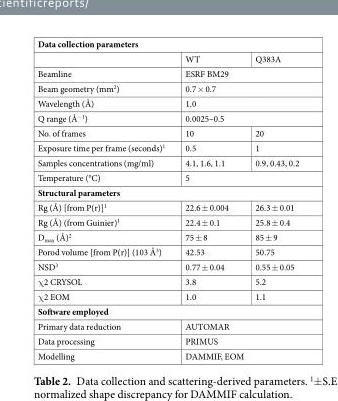table: (36, 37, 298, 361)
table column: (36, 37, 174, 361), (174, 37, 241, 361), (241, 37, 298, 361)
table projected row header: (36, 184, 298, 199), (36, 303, 298, 318), (36, 37, 298, 50)
table row: (36, 50, 298, 65), (36, 65, 298, 80), (36, 80, 298, 95), (36, 95, 298, 110), (36, 110, 298, 125), (36, 125, 298, 140), (36, 154, 298, 169), (36, 169, 298, 184), (36, 184, 298, 199), (36, 199, 298, 214), (36, 214, 298, 229), (36, 229, 298, 244), (36, 258, 298, 273), (36, 273, 298, 288), (36, 288, 298, 303), (36, 303, 298, 318), (36, 318, 298, 333), (36, 333, 298, 348), (36, 140, 298, 154), (36, 244, 298, 258), (36, 37, 298, 50), (36, 348, 298, 361)
table spanning cell: (174, 65, 298, 80), (174, 80, 298, 95), (174, 95, 298, 110), (174, 110, 298, 125), (174, 169, 298, 184), (174, 318, 298, 333), (174, 333, 298, 348), (174, 348, 298, 361)
